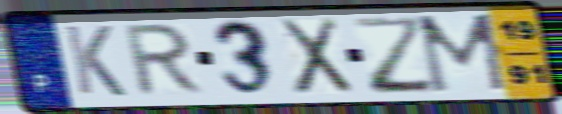3: (211, 16, 282, 100)
K: (60, 23, 129, 99)
M: (413, 10, 514, 97)
R: (122, 21, 207, 99)
X: (275, 15, 356, 98)
Z: (349, 13, 440, 96)
